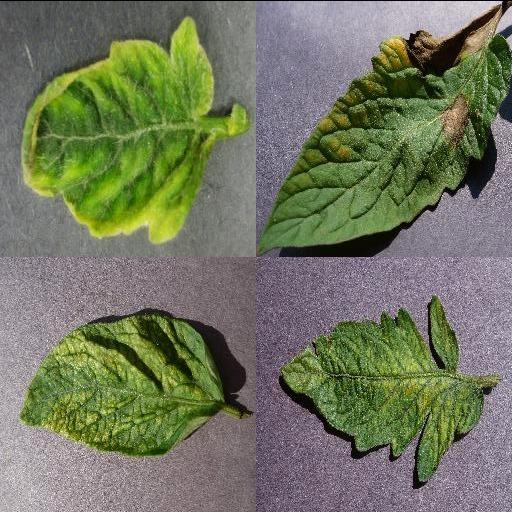Late Blight: (256, 0, 512, 256)
Mosaic Virus: (278, 292, 486, 482)
Spider Mites: (20, 310, 226, 456)
Yellow Leaf Curl Virus: (20, 14, 216, 244)
